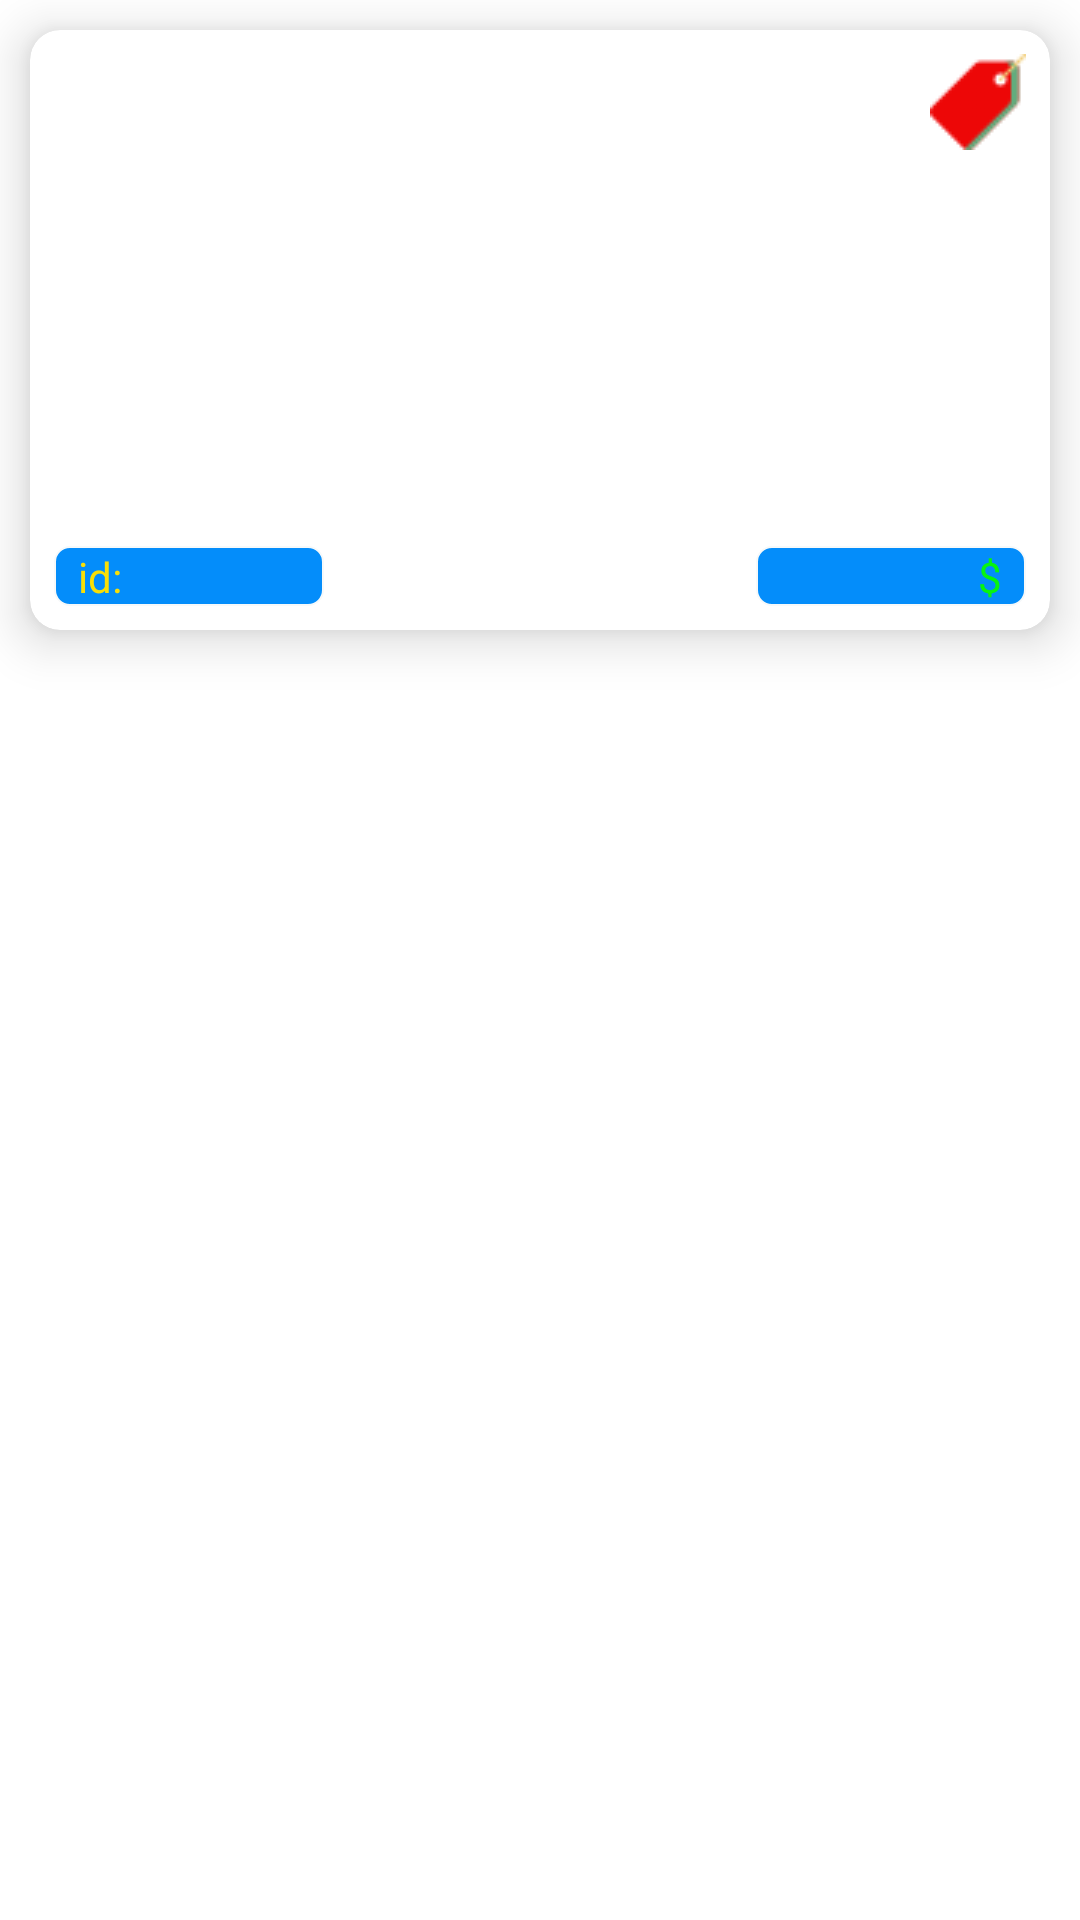

Locate icon controls on the screen. Image size 1080x1920, boxes as (x1, y1, x2, y2).
label: (930, 54, 1026, 150)
